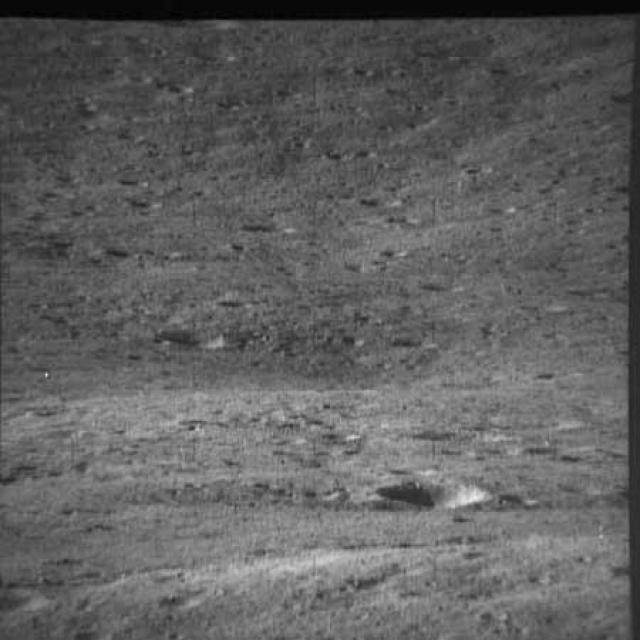crater: (369, 476, 492, 516), (487, 406, 586, 438), (149, 320, 236, 354), (232, 218, 304, 245), (391, 330, 445, 360)
